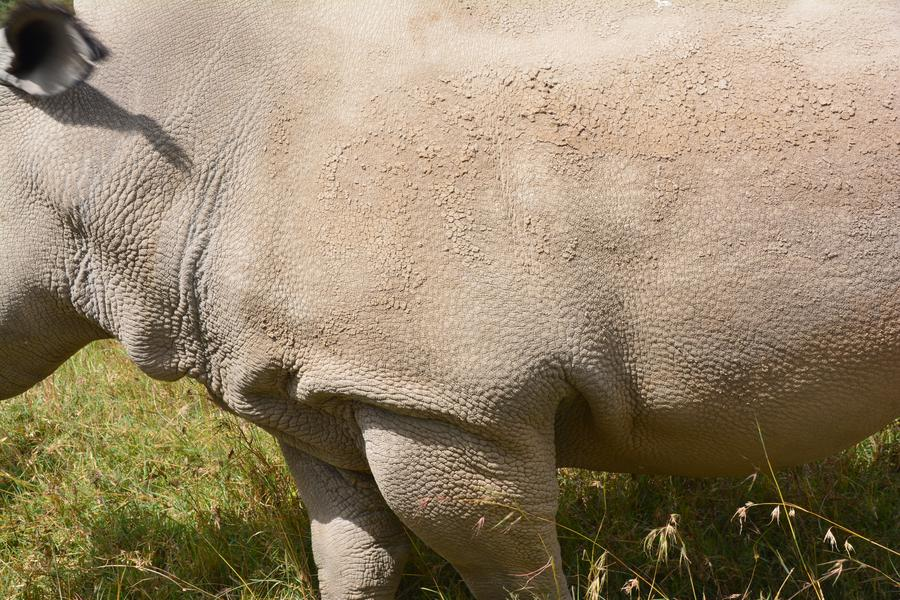rhino: (15, 18, 885, 570)
